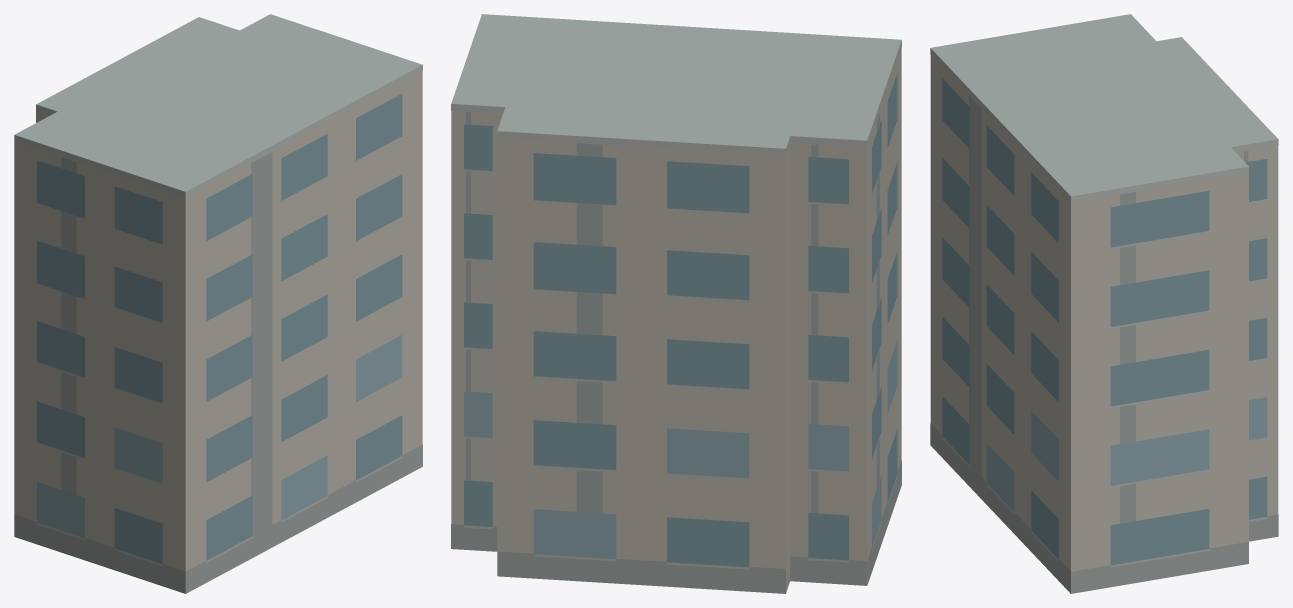
File: residential-430a1f90-c5e4-4ca3-9063-ef976354f682.glb
The picture shows the model from 3 angles, left to right: view 1: azimuth 30°, elevation 25°; view 2: azimuth 150°, elevation 25°; view 3: azimuth 270°, elevation 25°; orthographic projection. The views are drawn at different scales.
Visible parts, largest first — view 1: residential-430a1f90-c5e4-4ca3-9063-ef976354f682.tmp; view 2: residential-430a1f90-c5e4-4ca3-9063-ef976354f682.tmp; view 3: residential-430a1f90-c5e4-4ca3-9063-ef976354f682.tmp.
Boxes of the visible parts, box(x1,y1,x2,y2) form: residential-430a1f90-c5e4-4ca3-9063-ef976354f682.tmp: box(14, 14, 422, 593); residential-430a1f90-c5e4-4ca3-9063-ef976354f682.tmp: box(451, 14, 901, 593); residential-430a1f90-c5e4-4ca3-9063-ef976354f682.tmp: box(930, 14, 1278, 593).
Bounding box in the file's own units: 15.02 × 15.25 × 12.11.
